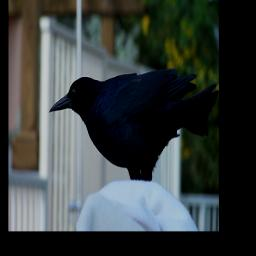Crow: (48, 67, 217, 180)
